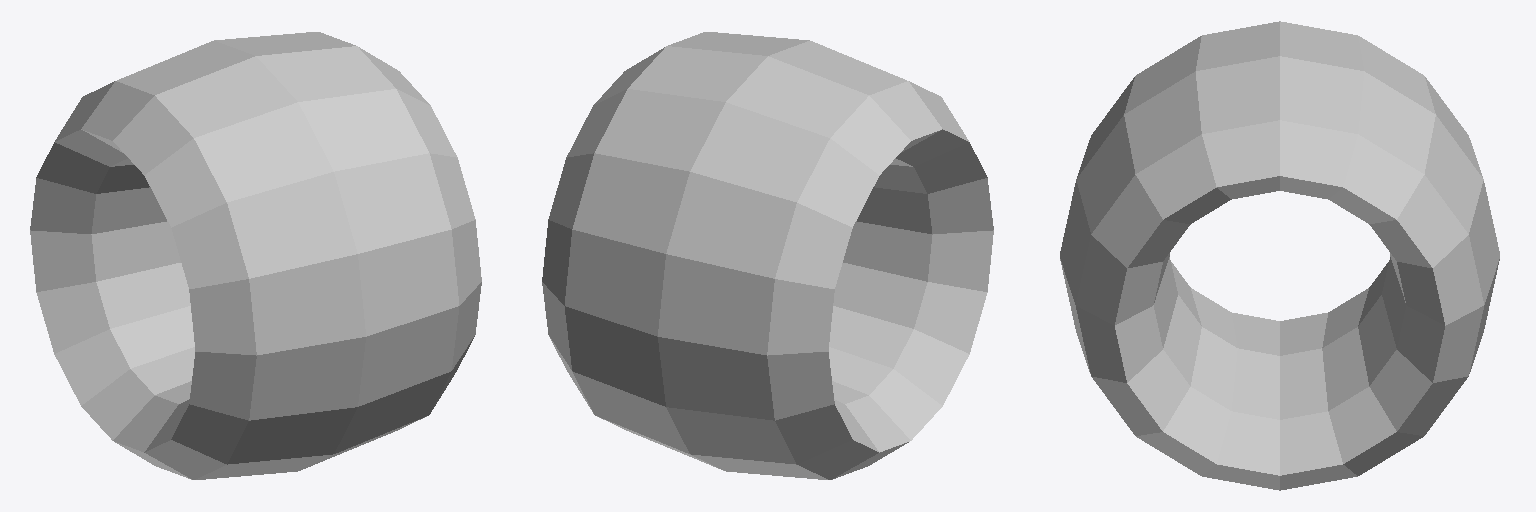
Rendered from wheel.obj.
3 views of the same model, side by side, from view 1: azimuth 30°, elevation 25°; view 2: azimuth 150°, elevation 25°; view 3: azimuth 270°, elevation 25° (orthographic).
Parts seen in each view (by area): view 1: Torus.006; view 2: Torus.006; view 3: Torus.006.
Part boxes in pixels (left/top/right/bottom): Torus.006: left=30, top=32, right=481, bottom=479; Torus.006: left=542, top=32, right=993, bottom=479; Torus.006: left=1060, top=21, right=1499, bottom=490.
Bounding box in the file's own units: 0.75 × 1 × 1.